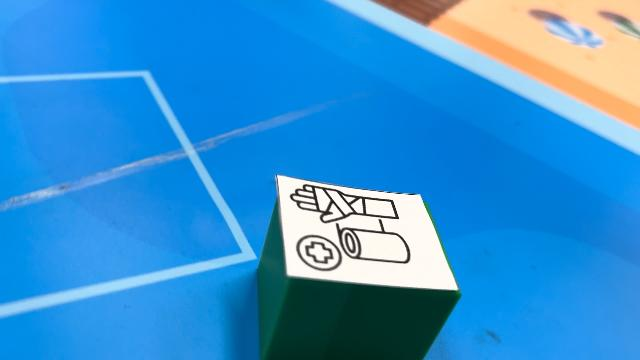bandage: (256, 174, 462, 358)
